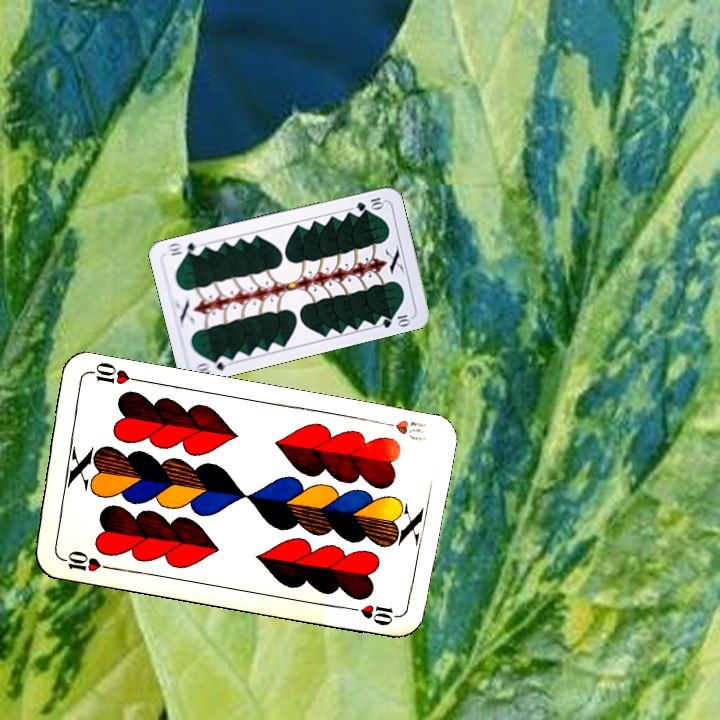G10: (192, 352, 231, 378), (352, 193, 387, 214)
H10: (54, 546, 113, 575), (373, 415, 429, 444)
